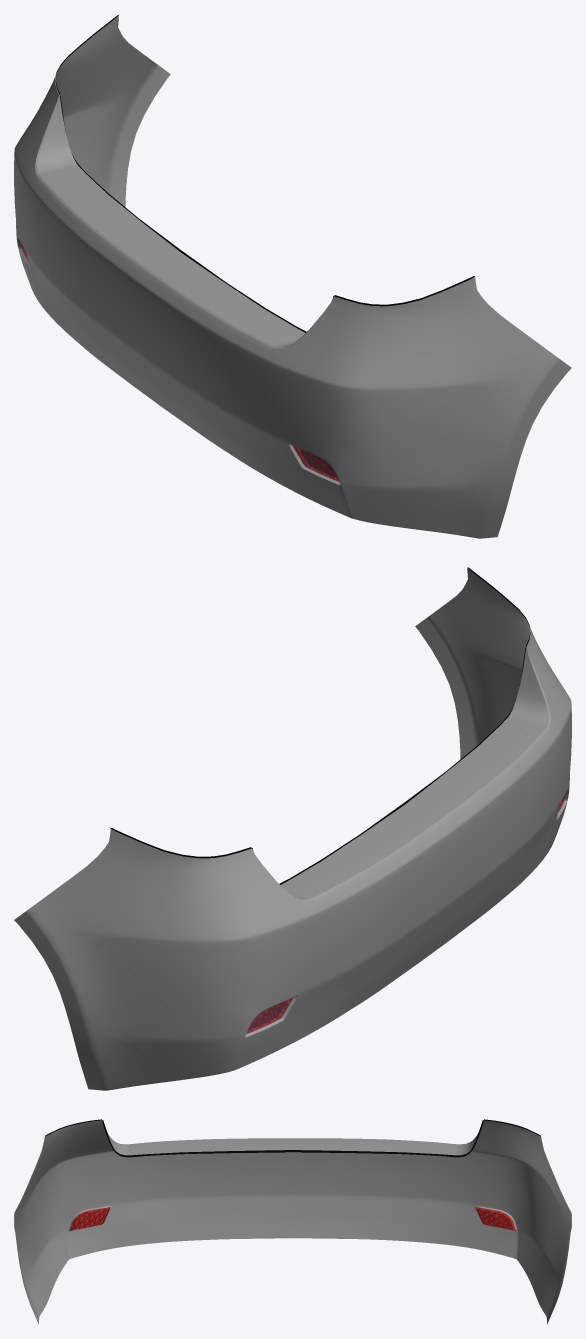
The picture shows the model from 3 angles, top to bottom: view 1: azimuth 30°, elevation 25°; view 2: azimuth 150°, elevation 25°; view 3: azimuth 270°, elevation 25°; orthographic projection. The views are drawn at different scales.
Visible parts, largest first — view 1: F183_561G_C_F183_561G_C_1_DaS, F183_561G_C_F183_561G_C_1_DaS_E, F183_561G_C_6_D_F183_561G_C; view 2: F183_561G_C_F183_561G_C_1_DaS, F183_561G_C_F183_561G_C_1_DaS_E, F183_561G_C_6_D_F183_561G_C; view 3: F183_561G_C_F183_561G_C_1_DaS, F183_561G_C_6_D_F183_561G_C, F183_561G_C_F183_561G_C_2_N, F183_561G_C_F183_561G_C_3_N, F183_561G_C_F183_561G_C_1_DaS_E.
Boxes of the visible parts, bbox=[...] form: F183_561G_C_F183_561G_C_1_DaS: bbox=[14, 16, 571, 538]; F183_561G_C_F183_561G_C_1_DaS_E: bbox=[16, 16, 473, 485]; F183_561G_C_6_D_F183_561G_C: bbox=[55, 15, 474, 332]; F183_561G_C_F183_561G_C_1_DaS: bbox=[14, 568, 571, 1090]; F183_561G_C_F183_561G_C_1_DaS_E: bbox=[102, 567, 569, 1037]; F183_561G_C_6_D_F183_561G_C: bbox=[109, 567, 530, 884]; F183_561G_C_F183_561G_C_1_DaS: bbox=[14, 1120, 571, 1324]; F183_561G_C_6_D_F183_561G_C: bbox=[45, 1119, 540, 1157]; F183_561G_C_F183_561G_C_2_N: bbox=[70, 1207, 110, 1230]; F183_561G_C_F183_561G_C_3_N: bbox=[475, 1207, 515, 1230]; F183_561G_C_F183_561G_C_1_DaS_E: bbox=[14, 1122, 571, 1231].
Bounding box in the file's own units: 73.72 × 76.72 × 212.
